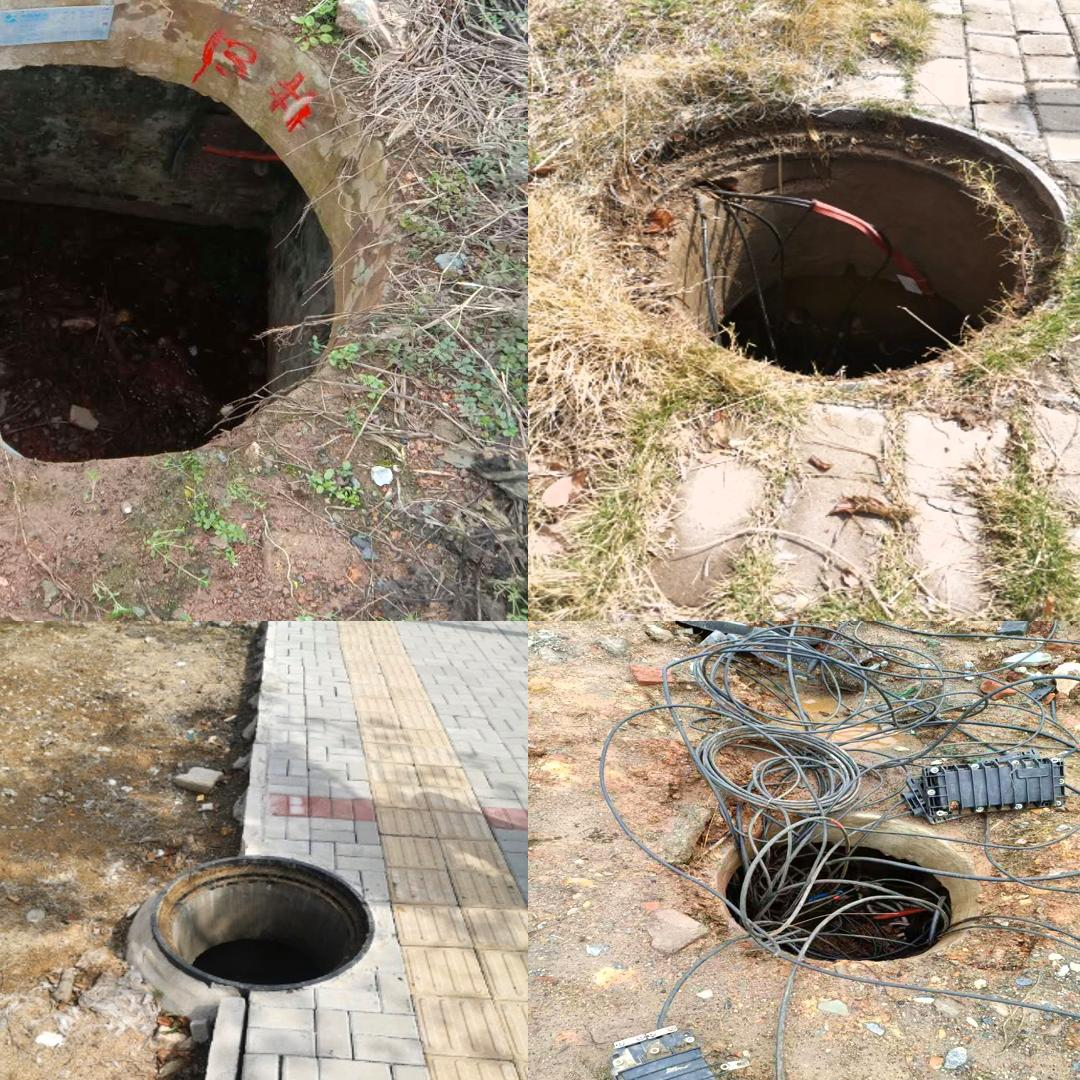lose: (598, 100, 1077, 389), (0, 60, 340, 464), (673, 792, 1049, 990), (150, 854, 376, 990)
